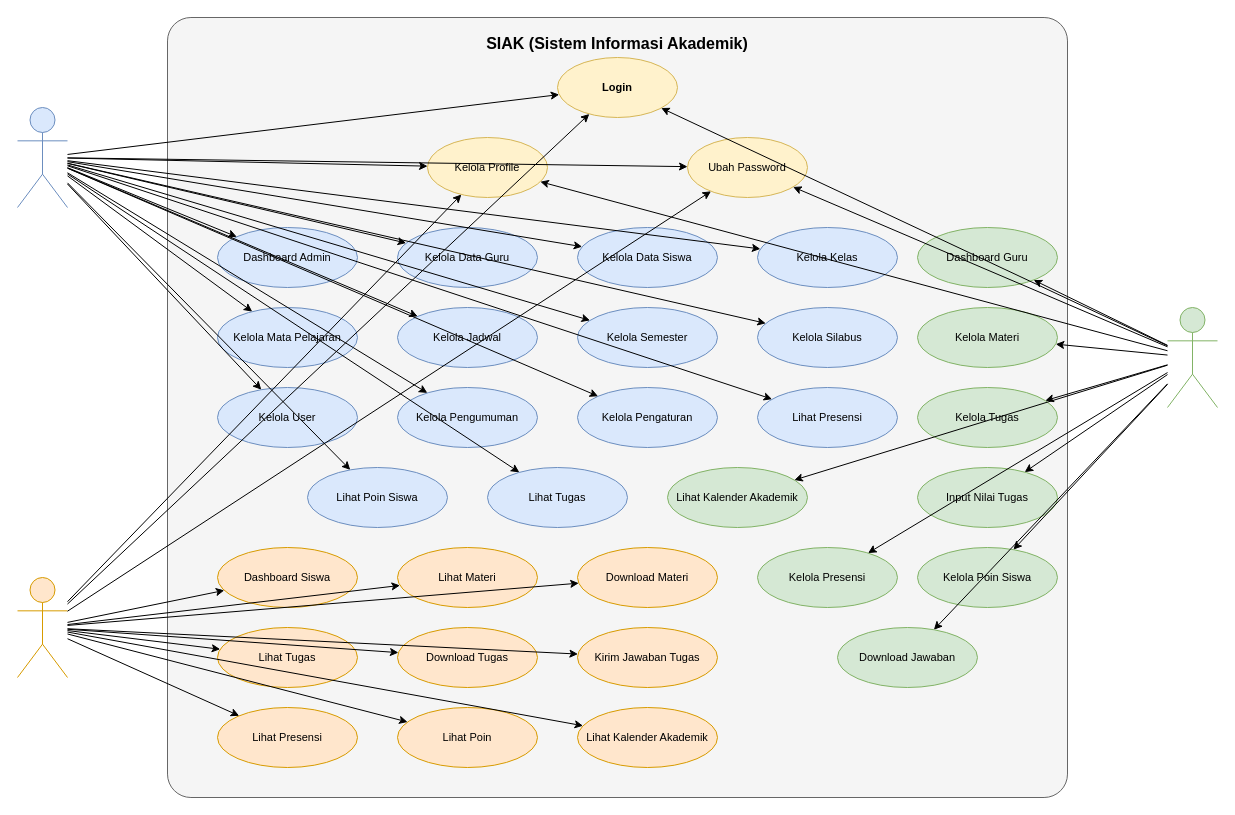
Image size: 1235x815. Some labels were removed from this diagram. Here are the shapes that lost their labels. From the top down, the centre of each, then its label:
At point 42,157: "Admin".
At point 1192,357: "Guru".
At point 42,627: "Siswa".
